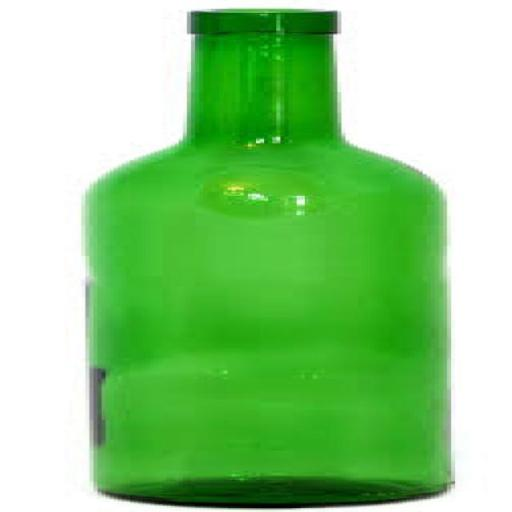glass: (21, 12, 468, 496)
